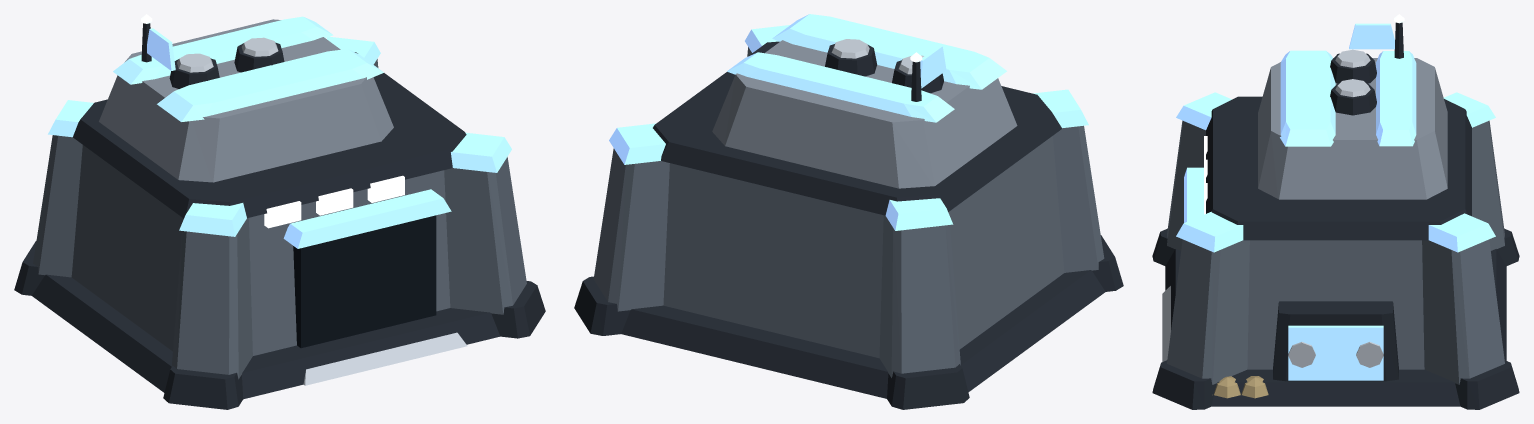
The model's file is muster_hall.glb.
3 views of the same model, side by side, from view 1: azimuth 30°, elevation 25°; view 2: azimuth 150°, elevation 25°; view 3: azimuth 270°, elevation 25° (orthographic). The views are drawn at different scales.
Parts seen in each view (by area): view 1: Surf_slate, Surf_dark, Surf_TEAM, Surf_armor, Surf_bay, Surf_light, Surf_win; view 2: Surf_slate, Surf_dark, Surf_armor, Surf_TEAM, Surf_light; view 3: Surf_slate, Surf_dark, Surf_TEAM, Surf_armor, Surf_light, Surf_sand.
Part boxes in pixels (box(x1,y1,x2,y2)): Surf_slate: box(33, 59, 526, 379); Surf_dark: box(14, 23, 545, 409); Surf_TEAM: box(48, 16, 511, 248); Surf_armor: box(99, 19, 393, 182); Surf_bay: box(293, 215, 436, 348); Surf_light: box(177, 37, 467, 385); Surf_win: box(264, 175, 404, 228); Surf_slate: box(593, 47, 1104, 377); Surf_dark: box(574, 41, 1123, 409); Surf_armor: box(712, 40, 1017, 188); Surf_TEAM: box(609, 14, 1088, 230); Surf_light: box(831, 39, 923, 74); Surf_slate: box(1167, 120, 1504, 384); Surf_dark: box(1152, 22, 1519, 409); Surf_TEAM: box(1176, 23, 1495, 380); Surf_armor: box(1258, 58, 1447, 199); Surf_light: box(1162, 49, 1383, 367); Surf_sand: box(1213, 376, 1268, 398).
Size of the model in its own units: 5.24 by 3.8 by 4.76.
